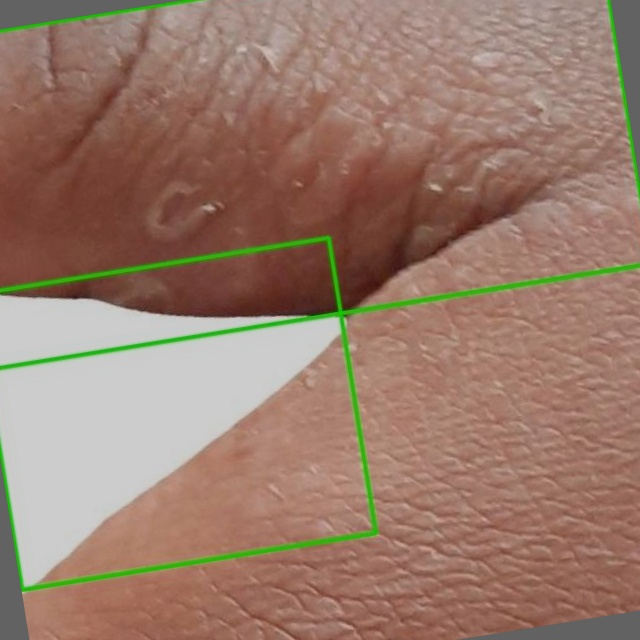Scabies: (0, 0, 639, 367), (0, 237, 377, 589)
